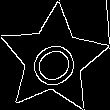O_NE: (21, 28, 86, 91)
